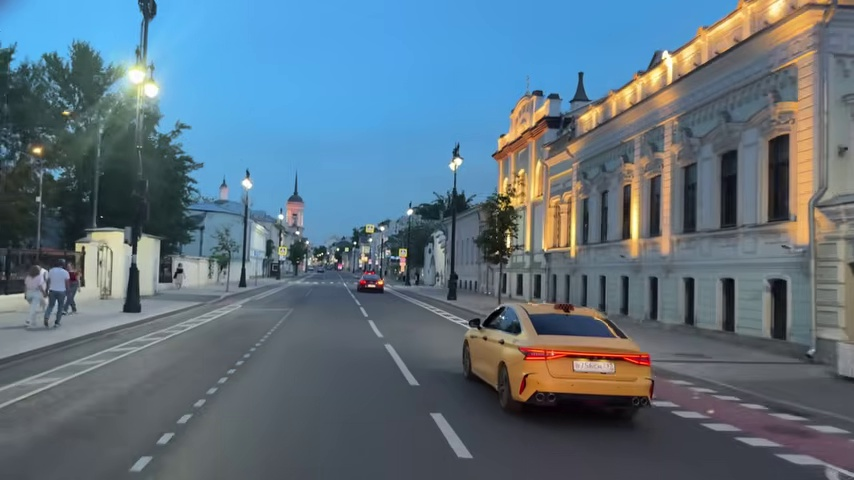acesa: (240, 174, 254, 190)
